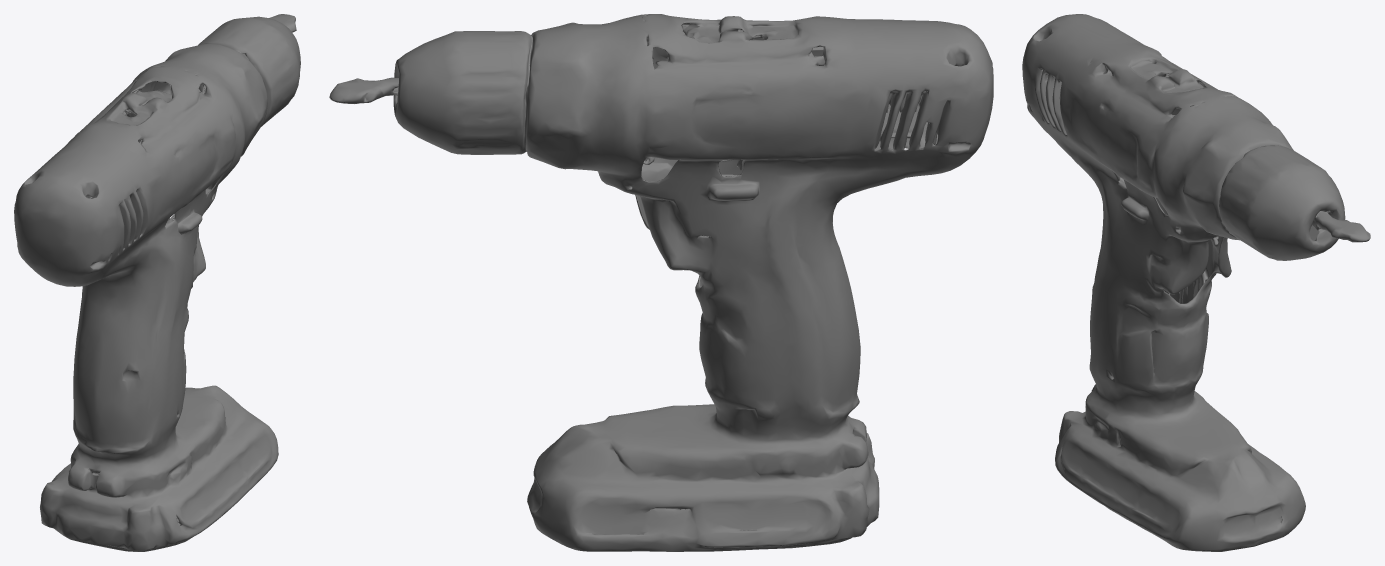
The model's file is drill.glb.
The picture shows the model from 3 angles, left to right: view 1: azimuth 30°, elevation 25°; view 2: azimuth 150°, elevation 25°; view 3: azimuth 270°, elevation 25°; orthographic projection. The views are drawn at different scales.
Visible parts, largest first — view 1: world; view 2: world; view 3: world.
Boxes of the visible parts, x1,y1,x2,y2 form: world: (14, 14, 300, 551); world: (329, 14, 993, 551); world: (1022, 14, 1370, 551).
Size of the model in its own units: 1 by 0.9511 by 0.7286.
Materials: 1 (1 with a texture image).
